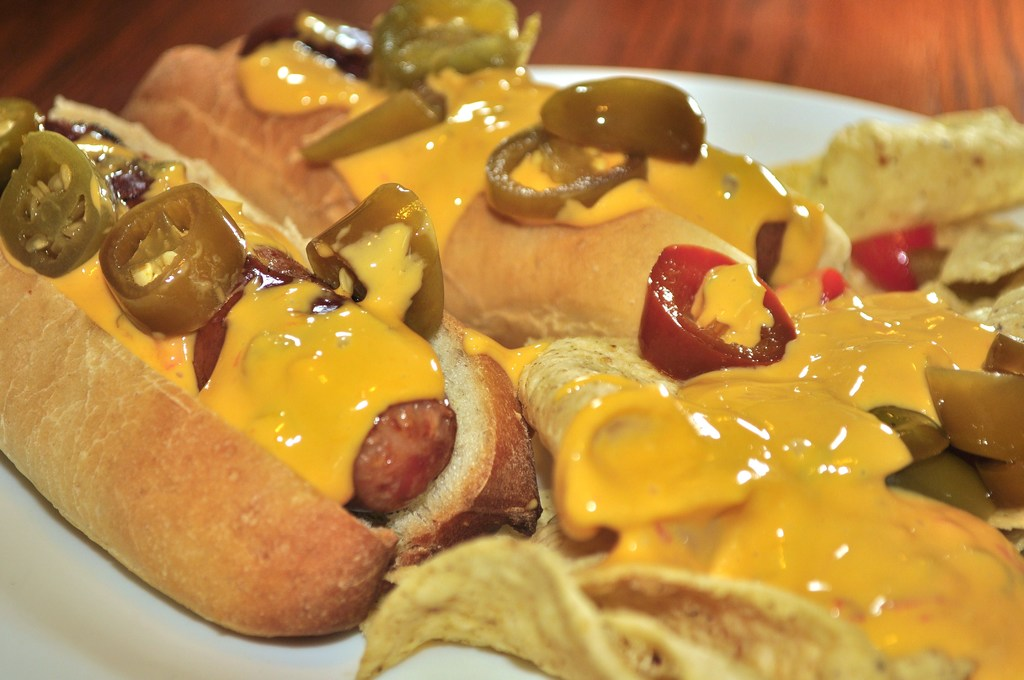hot_dog: (0, 87, 545, 640), (145, 0, 845, 329)
